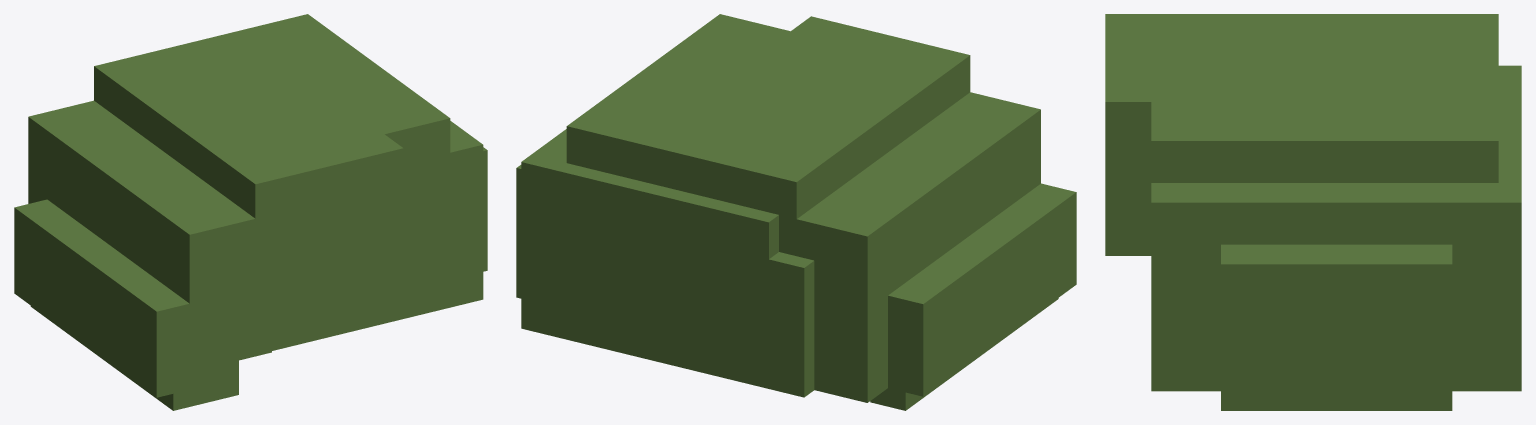
The picture shows the model from 3 angles, left to right: view 1: azimuth 30°, elevation 25°; view 2: azimuth 150°, elevation 25°; view 3: azimuth 270°, elevation 25°; orthographic projection. The views are drawn at different scales.
Visible parts, largest first — view 1: 7; view 2: 7; view 3: 7.
Boxes of the visible parts, bbox=[...] form: 7: bbox=[14, 14, 487, 410]; 7: bbox=[516, 14, 1076, 410]; 7: bbox=[1105, 14, 1521, 410].
Size of the model in its own units: 230 by 120 by 180.
Materials: 1 (1 with a texture image).
